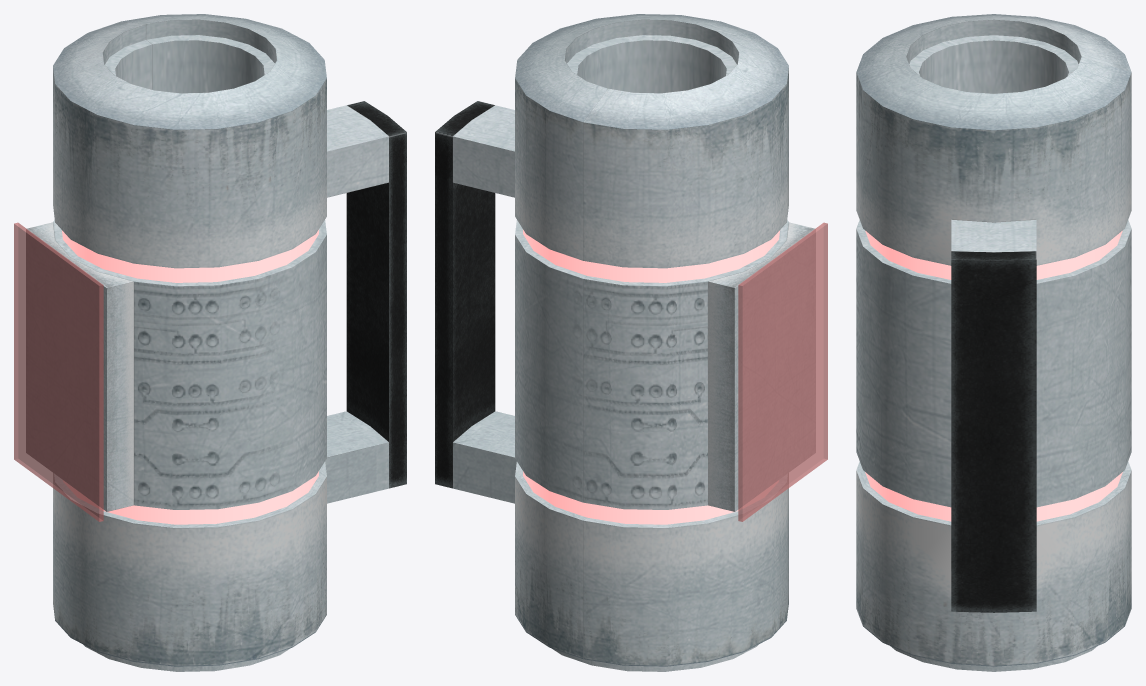
Rendered from Power_Cell_Red.fbx.
3 views of the same model, side by side, from view 1: azimuth 30°, elevation 25°; view 2: azimuth 150°, elevation 25°; view 3: azimuth 270°, elevation 25° (orthographic).
Parts seen in each view (by area): view 1: Power_Cell; view 2: Power_Cell; view 3: Power_Cell.
Boxes of the visible parts, x1,y1,x2,y2 form: Power_Cell: [14, 14, 406, 671]; Power_Cell: [435, 14, 827, 671]; Power_Cell: [856, 14, 1131, 671].
Bounding box in the file's own units: 13.88 × 22.61 × 10.
Materials: 3 (1 with a texture image).
